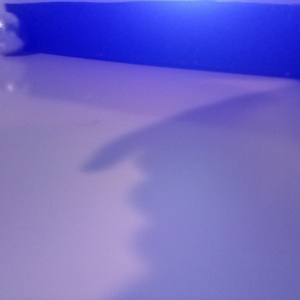alive_ball: (51, 27, 137, 116)
